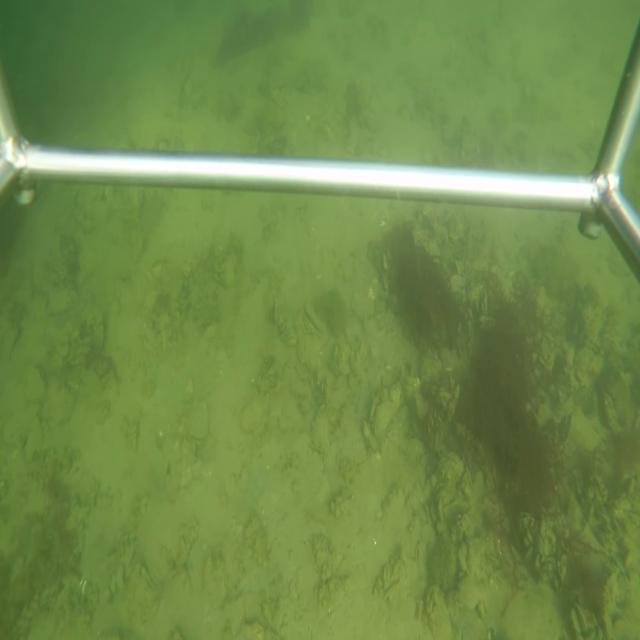Oyster-Closed: (368, 385, 406, 449)
